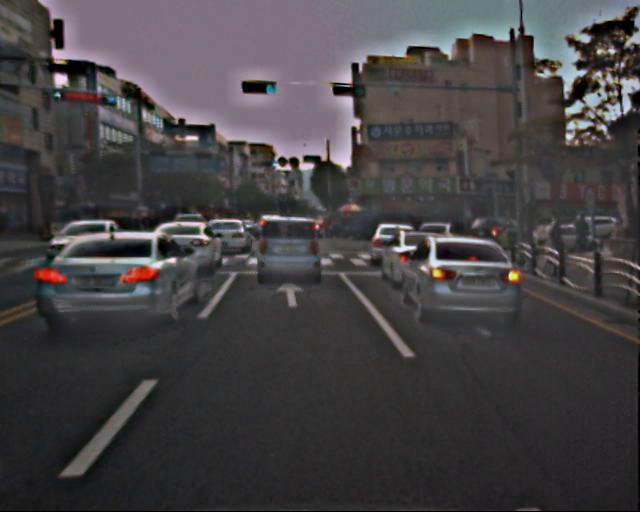person: (544, 219, 566, 272), (529, 221, 548, 267), (571, 213, 588, 254)
